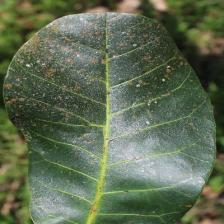red rust: (2, 11, 217, 224)
